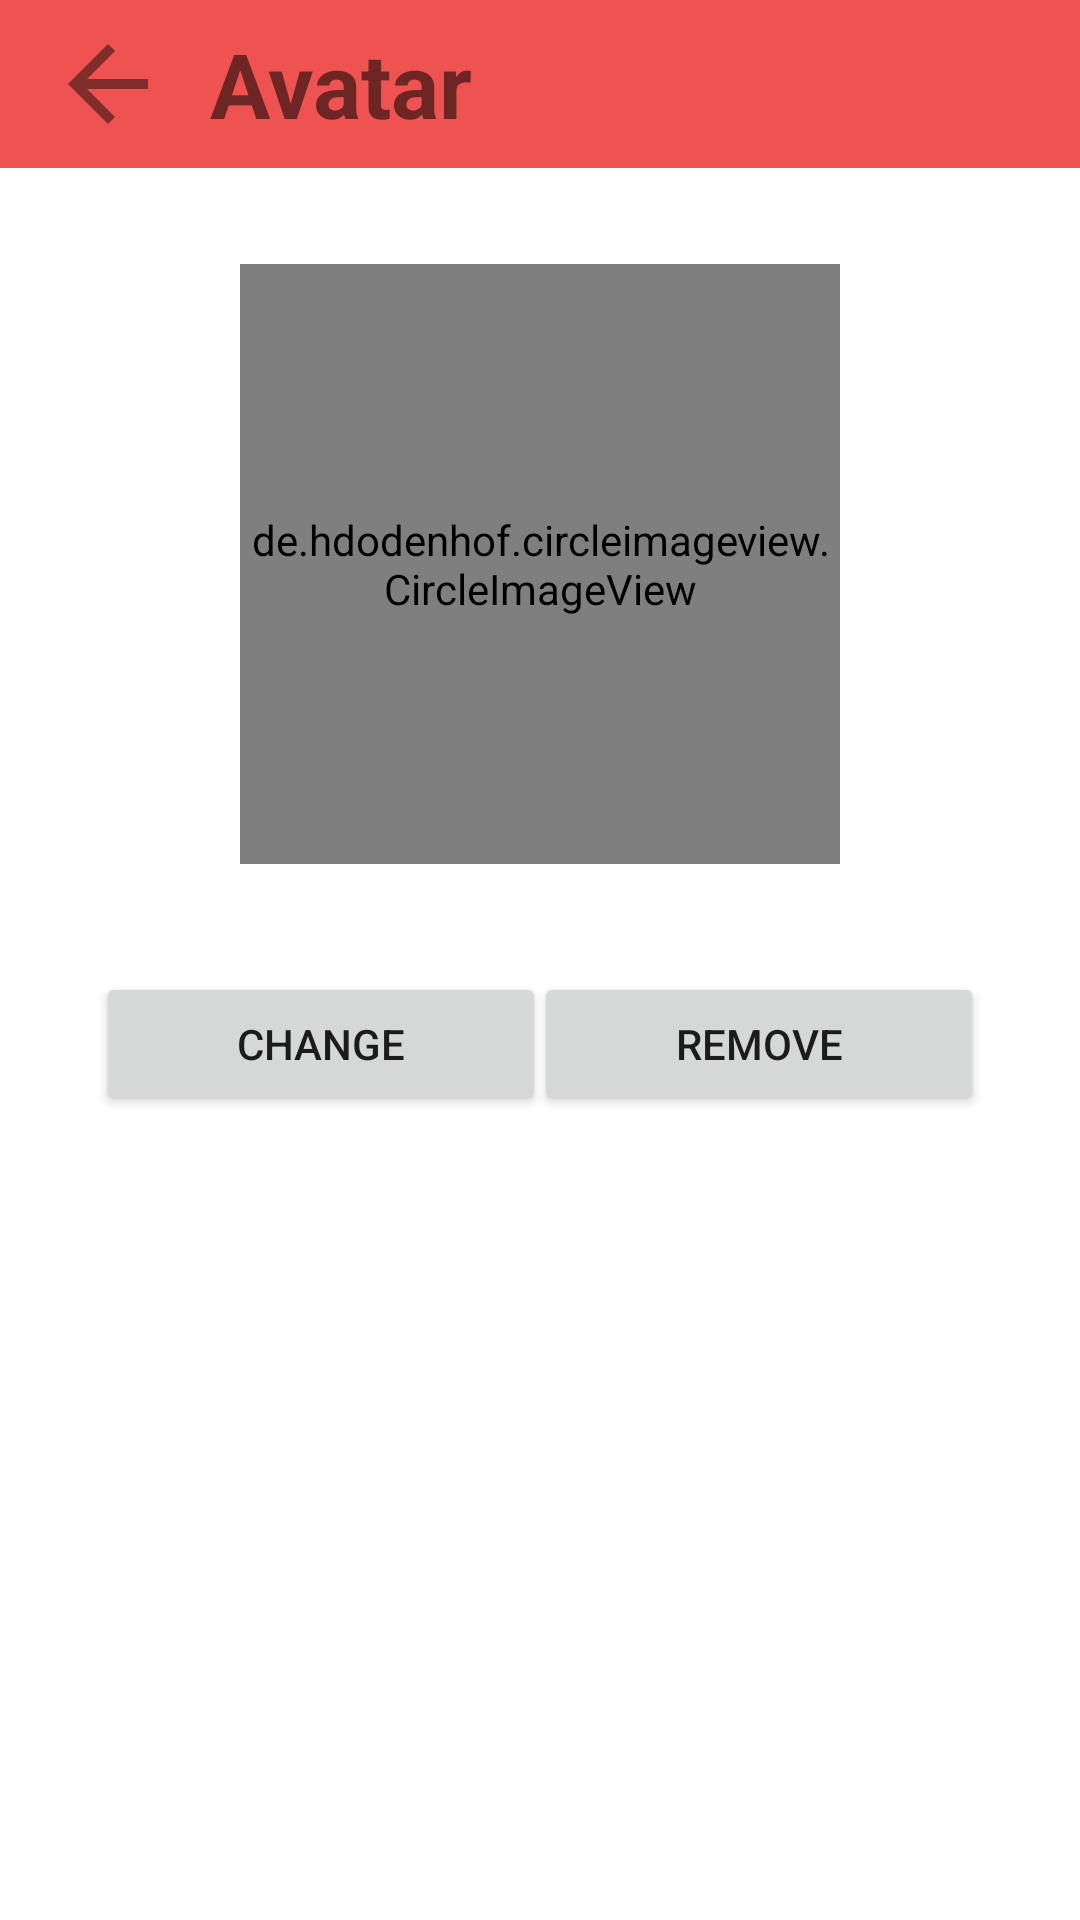

Icons on this 1080 x 1920 Android screen, each with its box as (x1, y1, x2, y2):
back arrow: (68, 44, 148, 124)
